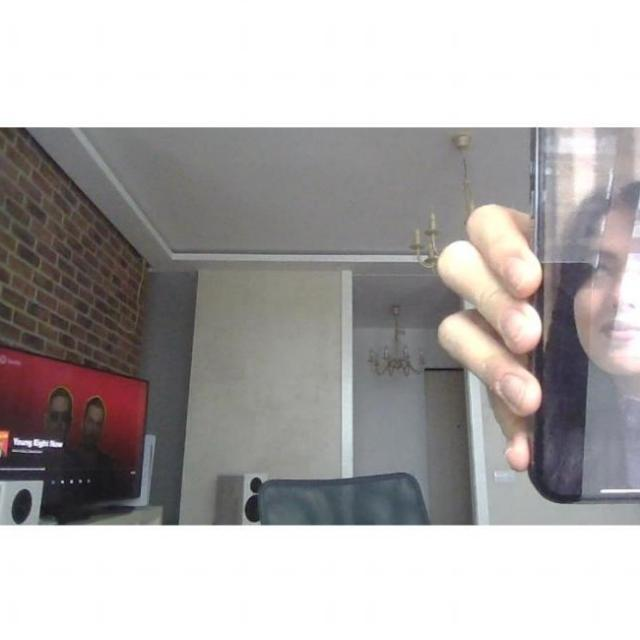device: (525, 126, 640, 510)
